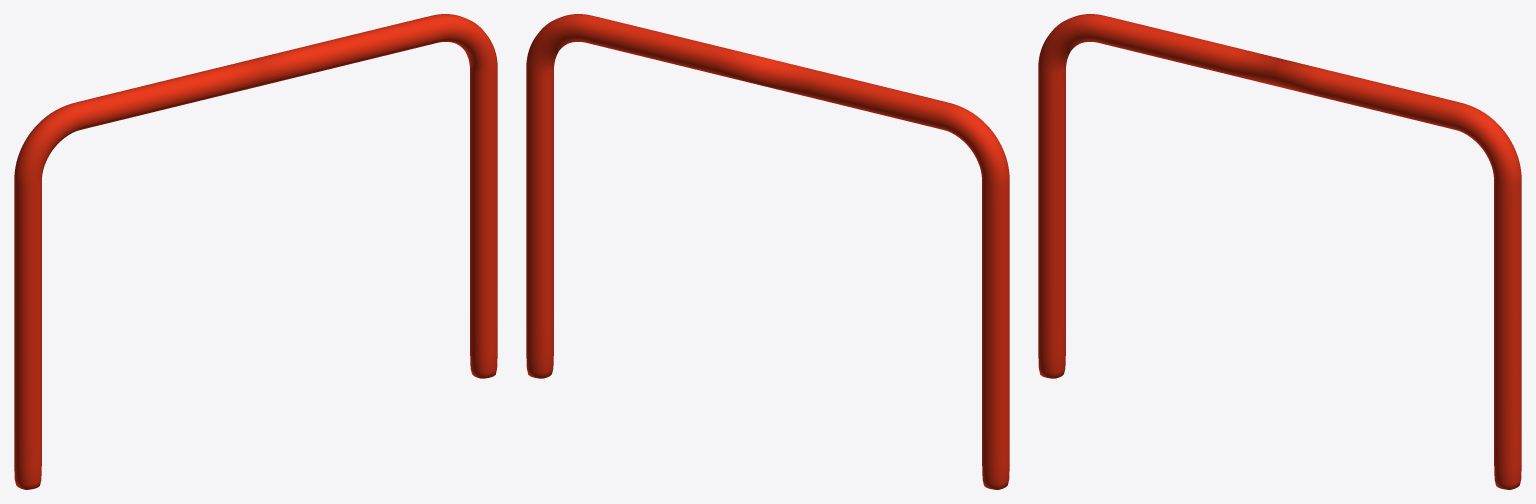
Rendered from fence.fbx.
3 renders of one model, left to right at view 1: azimuth 30°, elevation 25°; view 2: azimuth 150°, elevation 25°; view 3: azimuth 330°, elevation 25°, orthographic.
Parts seen in each view (by area): view 1: Cube.022; view 2: Cube.022; view 3: Cube.022.
Boxes of the visible parts, bbox=[...] form: Cube.022: bbox=[14, 14, 497, 489]; Cube.022: bbox=[526, 14, 1009, 489]; Cube.022: bbox=[1038, 14, 1521, 489].
Bounding box in the file's own units: 80.13 × 59.09 × 4.01.
Materials: 1 (1 with a texture image).
